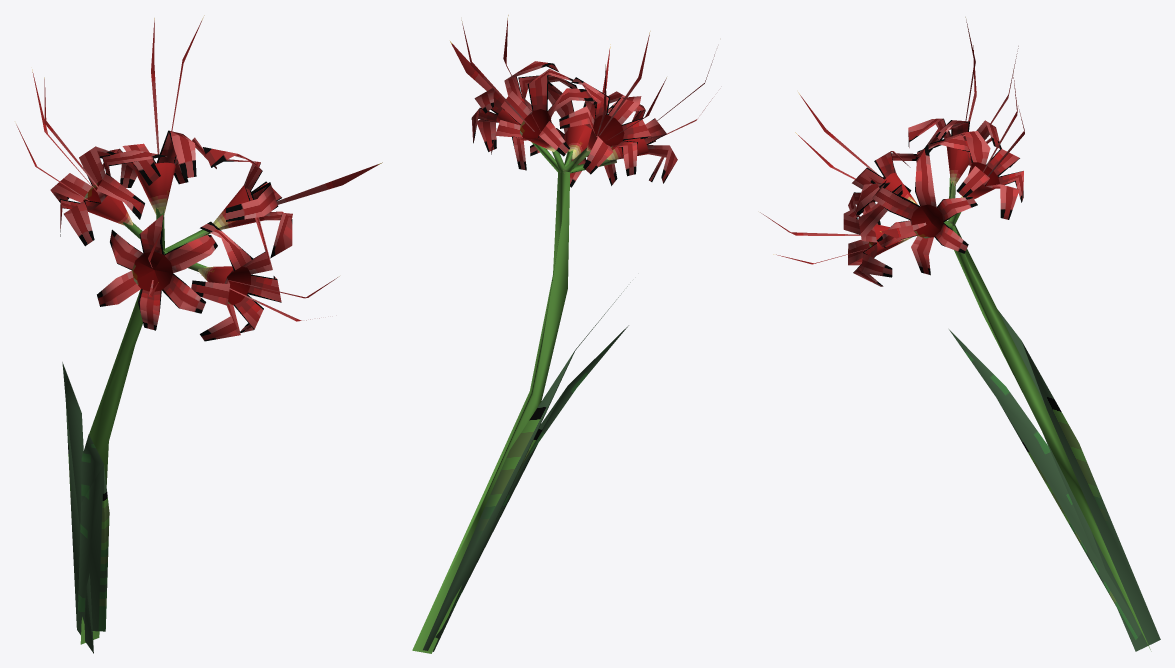
Rendered from Flowers.fbx.
The picture shows the model from 3 angles, left to right: view 1: azimuth 30°, elevation 25°; view 2: azimuth 150°, elevation 25°; view 3: azimuth 270°, elevation 25°; orthographic projection. The views are drawn at different scales.
Visible parts, largest first — view 1: Uchujin_Main2; view 2: Uchujin_Main2; view 3: Uchujin_Main2.
Part boxes in pixels (x1,y1,x2,y2): Uchujin_Main2: (16, 15, 382, 653); Uchujin_Main2: (412, 15, 714, 653); Uchujin_Main2: (760, 17, 1160, 651).
Size of the model in its own units: 7.59 by 16.16 by 10.21.
